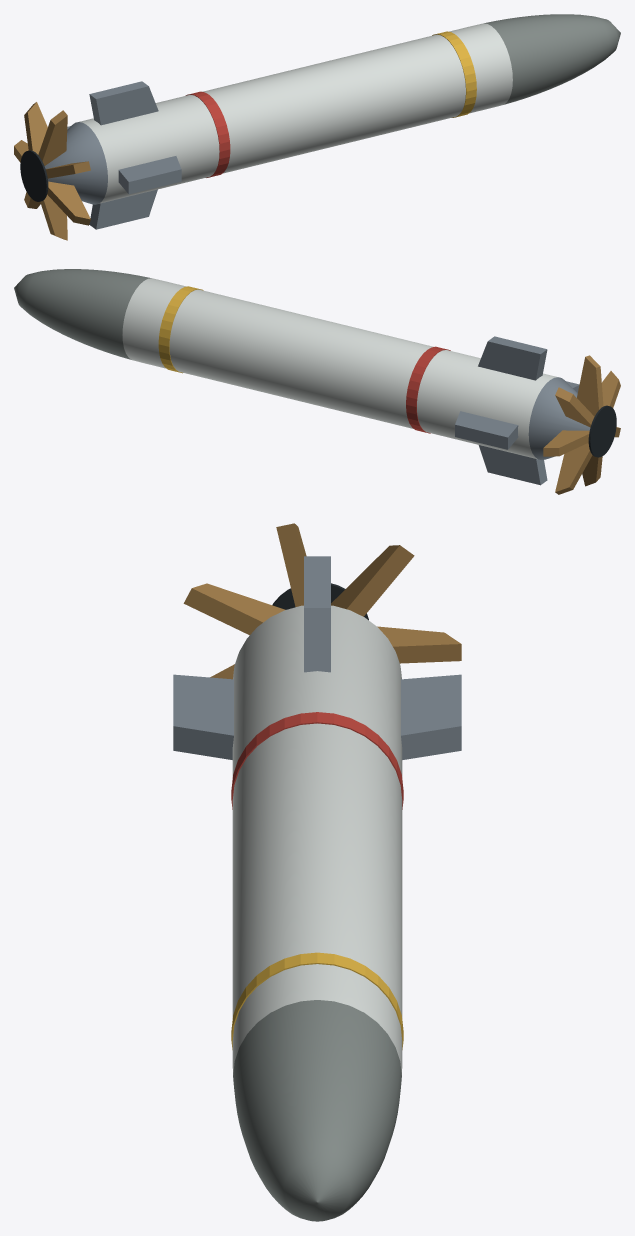
3 views of the same model, one above another, from view 1: azimuth 30°, elevation 25°; view 2: azimuth 150°, elevation 25°; view 3: azimuth 270°, elevation 25° (orthographic). The views are drawn at different scales.
Parts seen in each view (by area): view 1: cw90_mk46; view 2: cw90_mk46; view 3: cw90_mk46.
Boxes of the visible parts, x1,y1,x2,y2 form: cw90_mk46: (14,14,620,240); cw90_mk46: (14,269,620,494); cw90_mk46: (173,523,461,1221).
Bounding box in the file's own units: 10 × 2.12 × 2.12.
